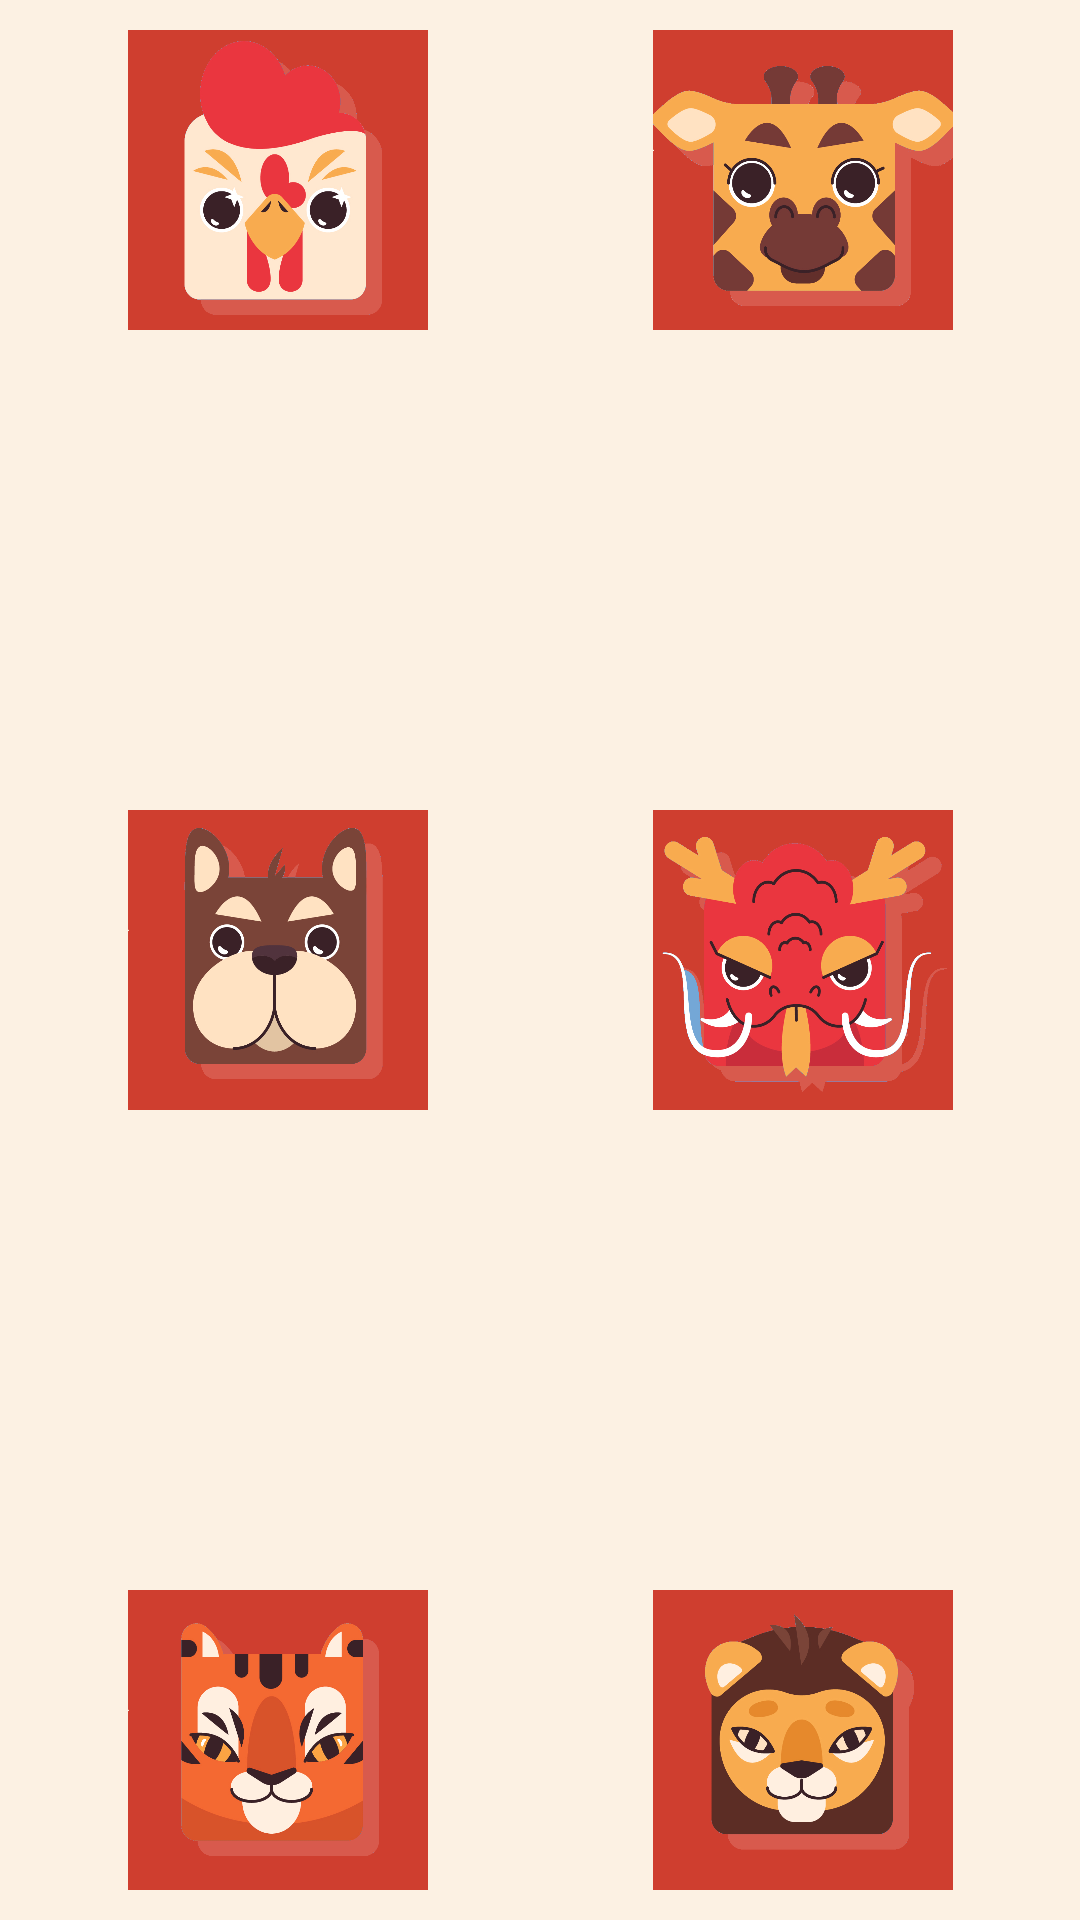

Icons on this 1080x1920 Android screen, each with its box as (x1,y1,x2,y2):
chicken: (128,30,428,330)
dog: (128,810,428,1110)
dragon: (653,810,953,1110)
girafe: (653,30,953,330)
lion: (653,1590,953,1890)
tiger: (128,1590,428,1890)
